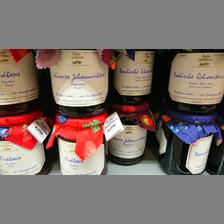Marmelade: (46, 48, 110, 116), (155, 110, 217, 174), (162, 48, 222, 112), (51, 110, 109, 174), (0, 110, 54, 174), (0, 47, 46, 116), (106, 101, 154, 165), (110, 48, 154, 100)
